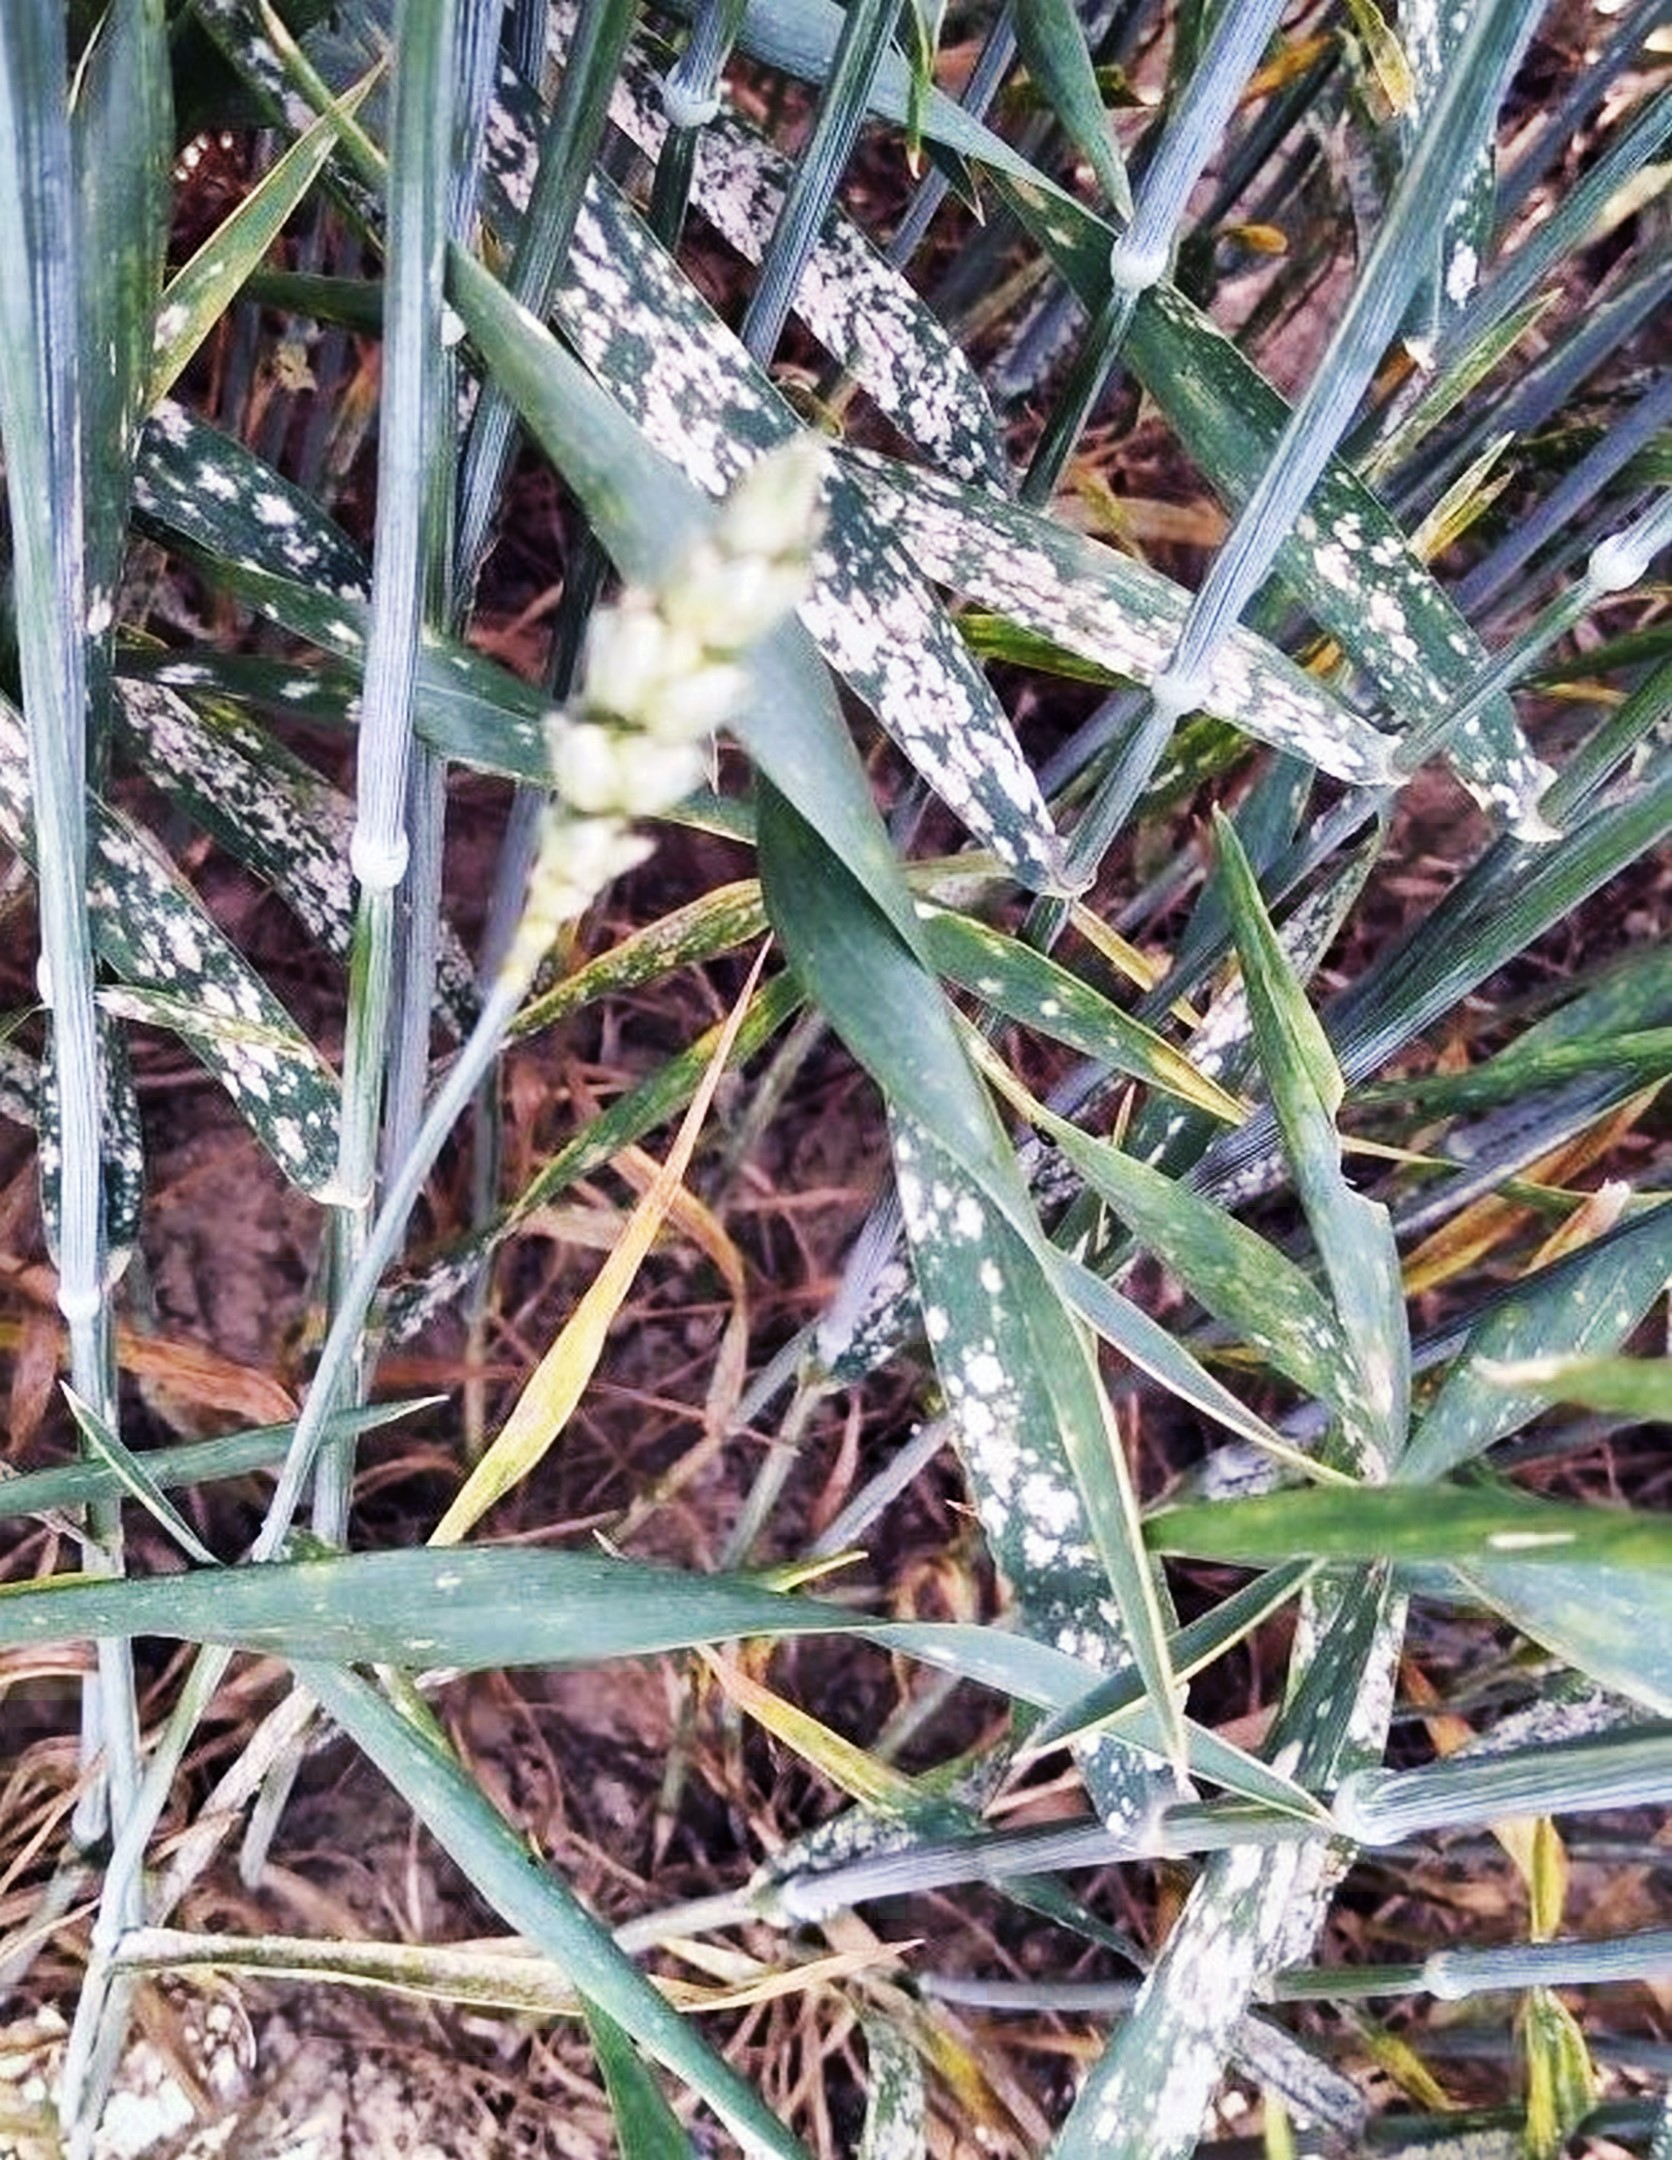Powdery Mildew: (599, 163, 1185, 803)
